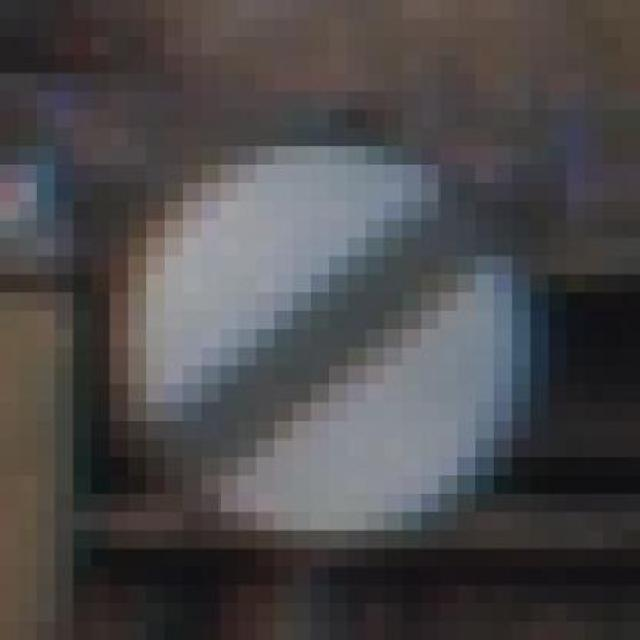End of all speed and passing limits: (73, 110, 567, 548)
